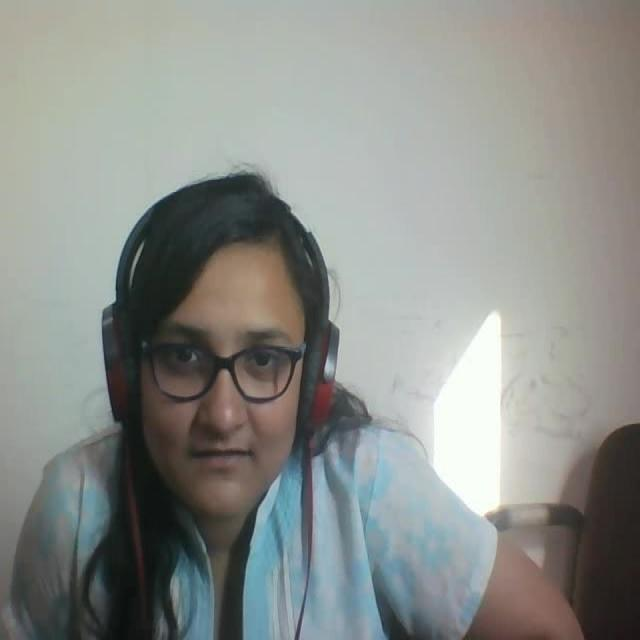Engaged: (87, 160, 350, 526)
